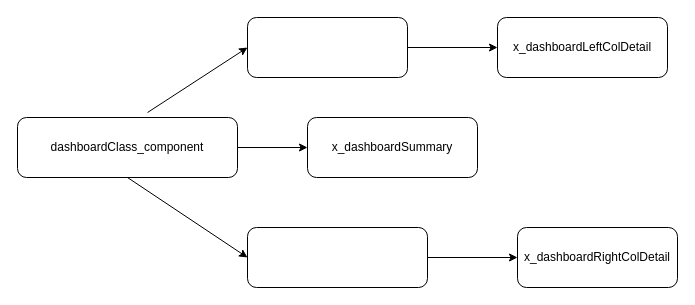
The diagram is 695 pixels wide and 305 high, and some of its shapes have lost their labels. The centre of each missing label's shape, as x and y in pixels:
x_dashboardLeftCol: point (327, 47)
x_dashboardRightCol: point (337, 257)
